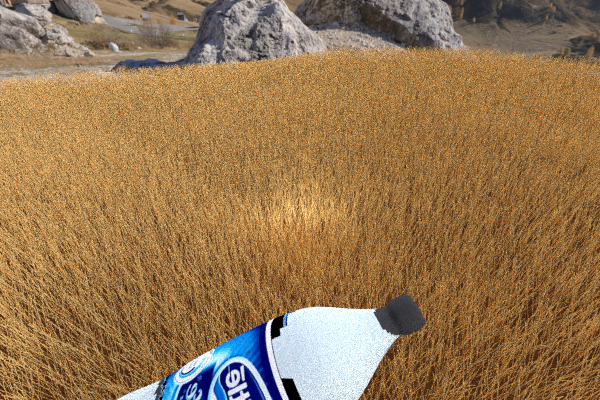Plastic Bottle: (16, 294, 425, 400), (360, 92, 387, 122)
